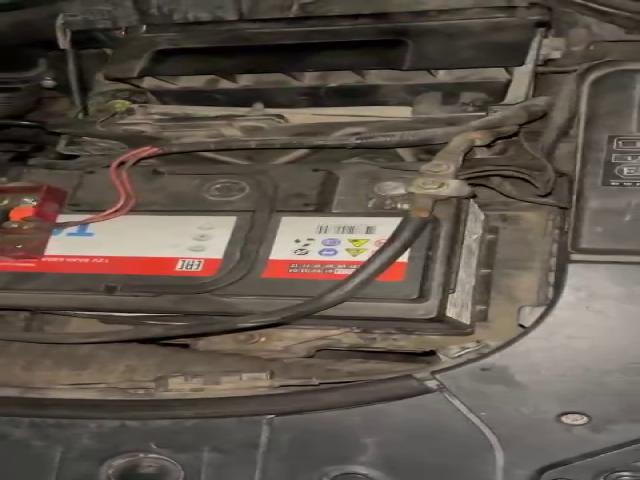accumulator: (0, 163, 502, 330)
fuse_box: (573, 68, 640, 252)
